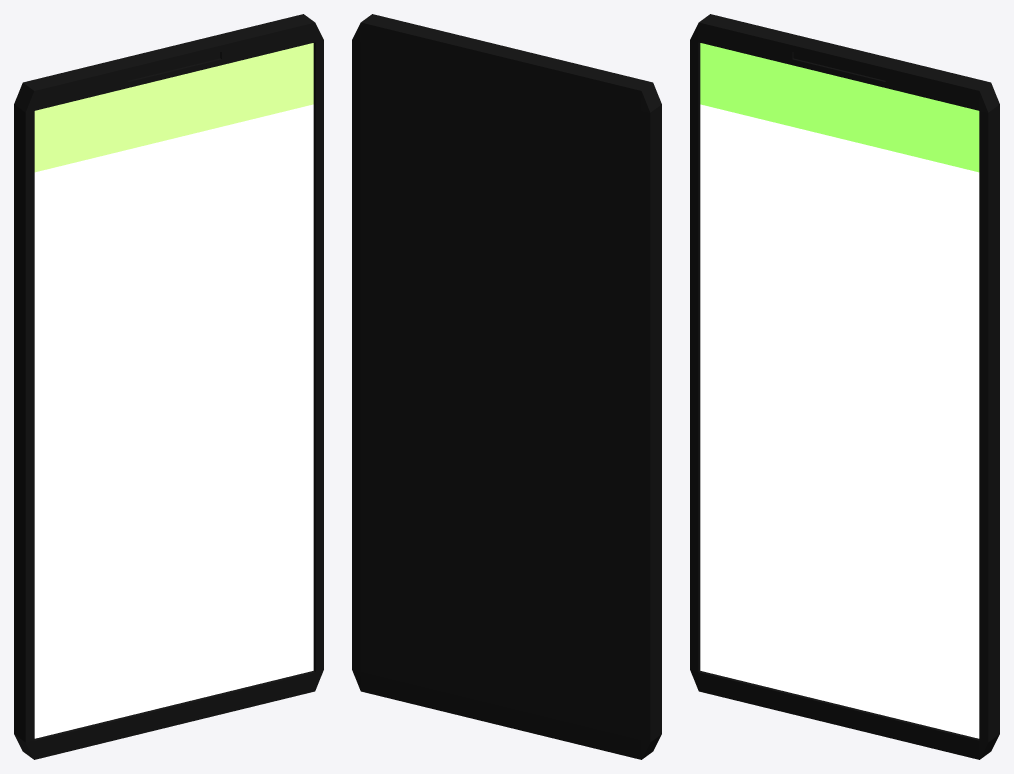
File: Smartphone.glb
3 renders of one model, left to right at view 1: azimuth 30°, elevation 25°; view 2: azimuth 150°, elevation 25°; view 3: azimuth 330°, elevation 25°, orthographic.
Visible parts, largest first — view 1: Cube; view 2: Cube; view 3: Cube.
Part boxes in pixels (left/top/right/bottom): Cube: left=14, top=14, right=323, bottom=759; Cube: left=352, top=14, right=661, bottom=759; Cube: left=690, top=14, right=999, bottom=759.
Size of the model in its own units: 0.07 by 0.15 by 0.005.
